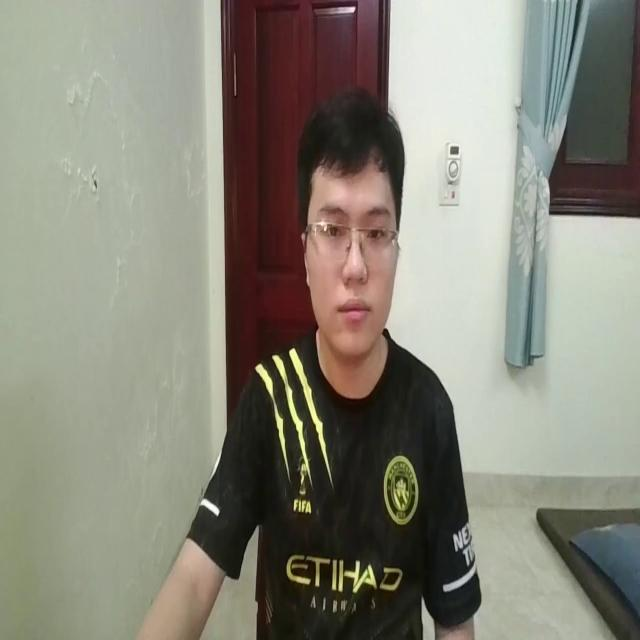student: (114, 86, 482, 640)
